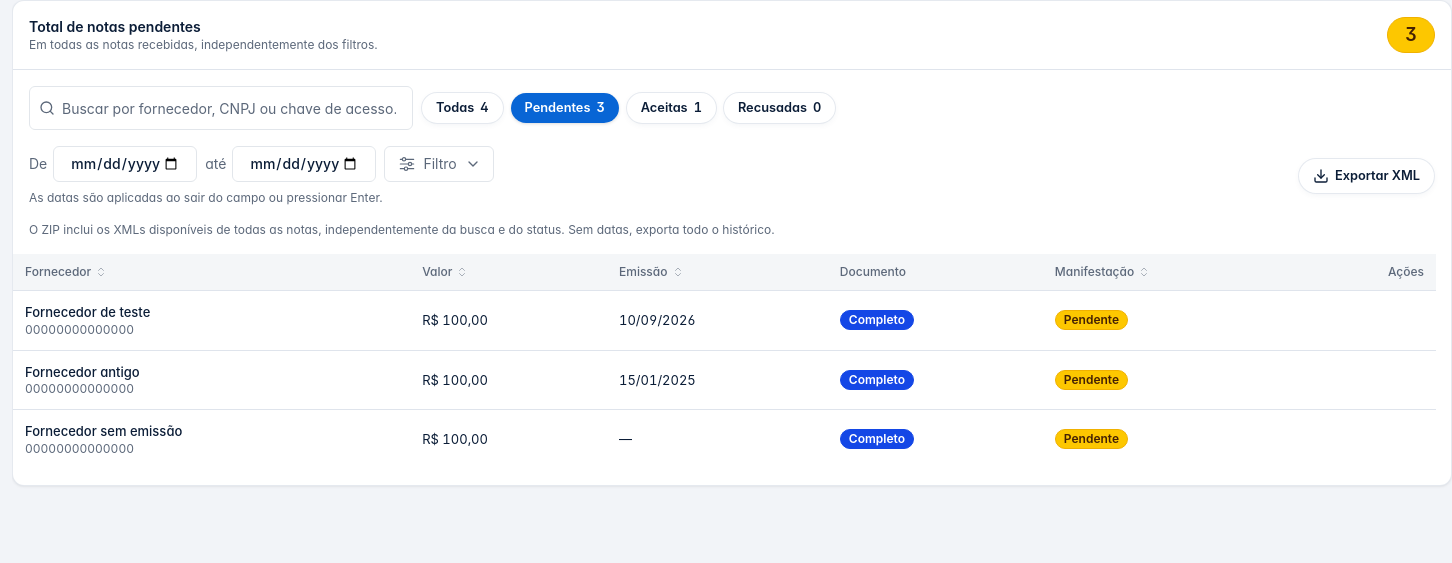
Scenario: abre o Manifesto sem datas e mostra todas as pendentes, inclusive antigas e sem emissão
The image size is (1452, 563).
Expected: the date field labelled "até" is empty, 232,146 -> 376,182
Expected: the text "Fornecedor de teste" is shown, 25,304 -> 150,320
Step 1. Type "2026-09-01" into the date field labelled "De" → {"x": 125, "y": 164}, box 53,146 -> 197,182
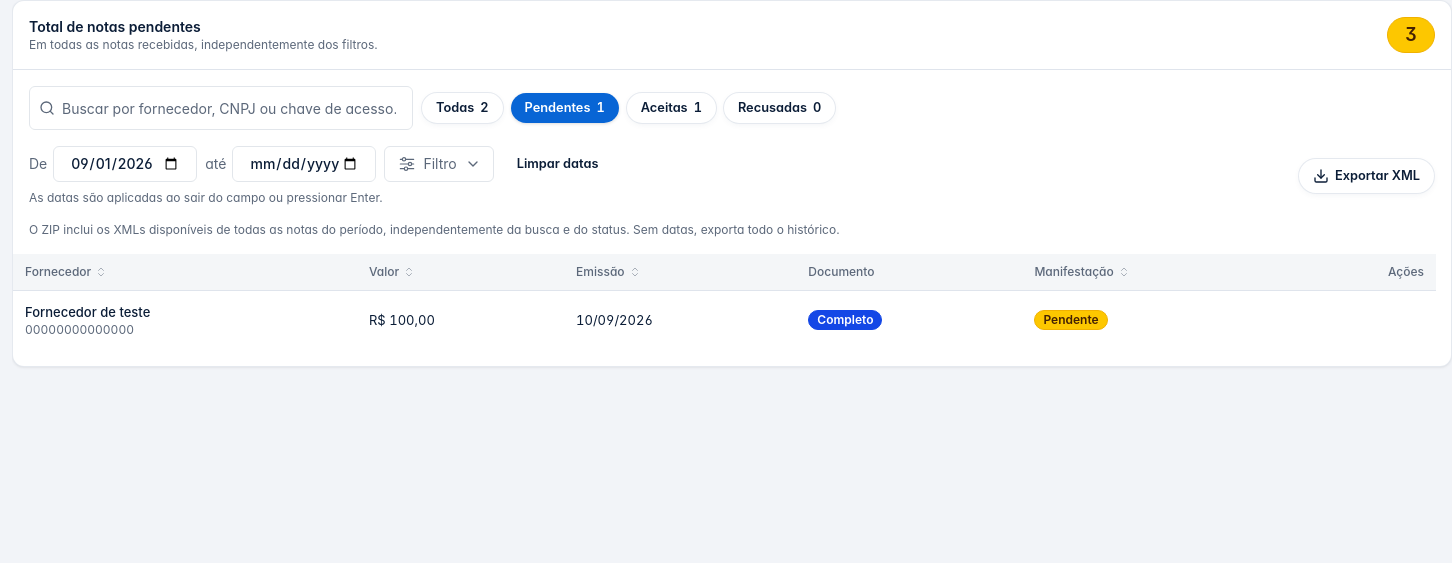
Step 2. Type "2026-09-18" into the date field labelled "até" → {"x": 304, "y": 164}, box 232,146 -> 376,182
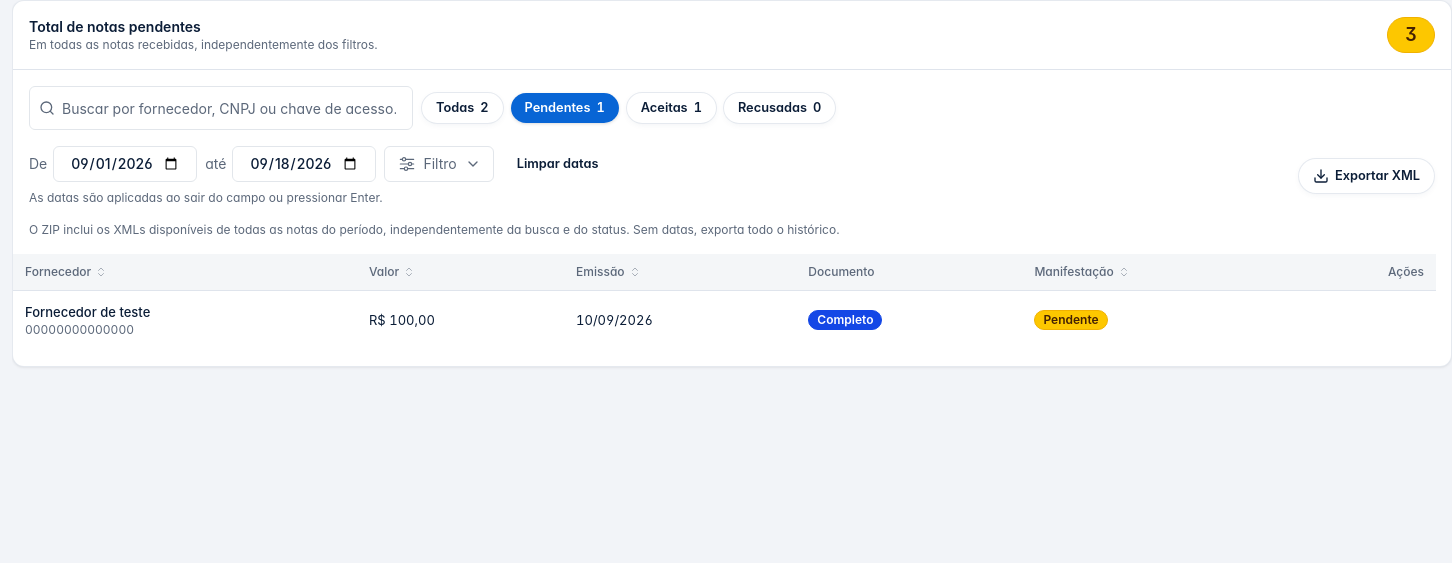
Expected: the text "Fornecedor de teste" is shown, 25,304 -> 150,320
Expected: the text "Fornecedor antigo" is not shown
Step 3. Click the button "Limpar datas" → {"x": 558, "y": 164}, box 502,146 -> 614,182
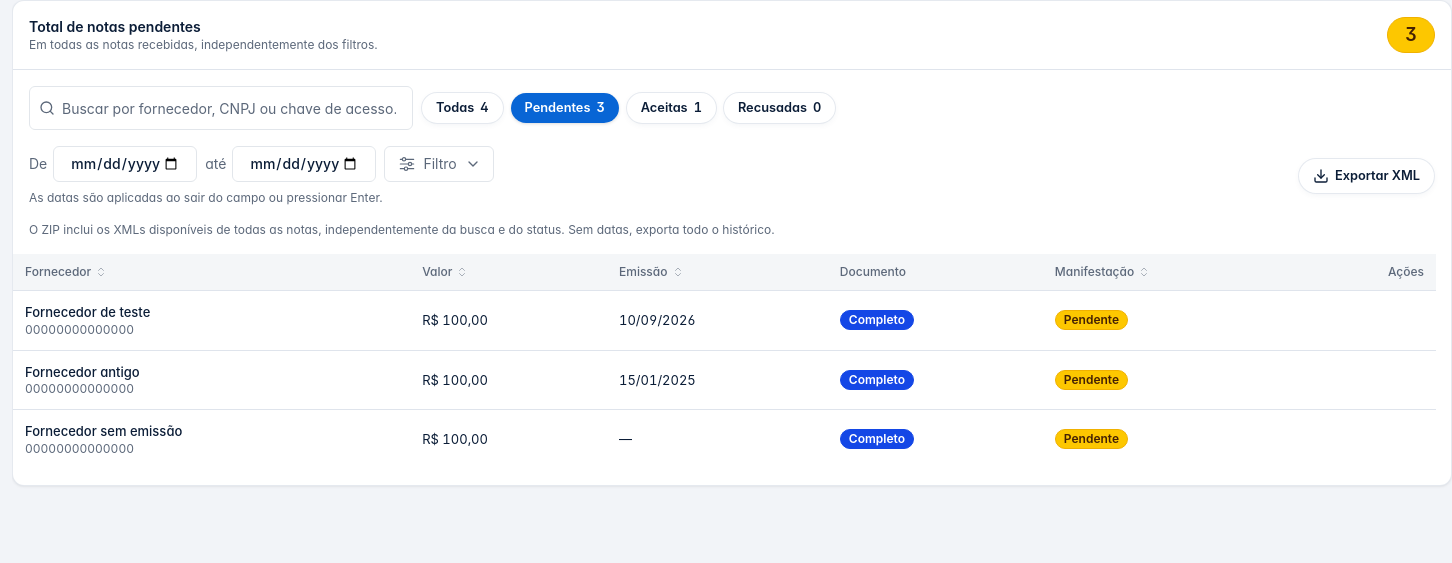
Expected: the text "Fornecedor antigo" is shown, 25,364 -> 140,380
Expected: the text "Fornecedor sem emissão" is shown, 25,423 -> 182,439
Step 4. Click the button "Todas 4" → {"x": 462, "y": 108}, box 421,92 -> 504,124
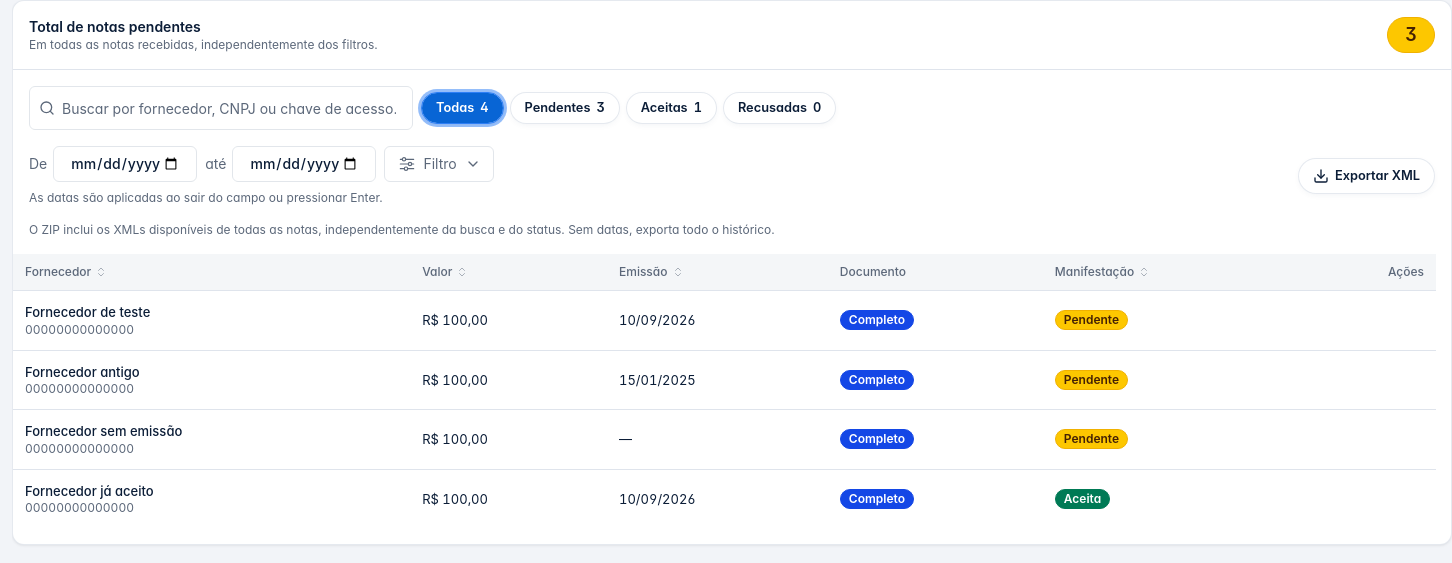
Expected: the text "Fornecedor já aceito" is shown, 25,483 -> 154,499
